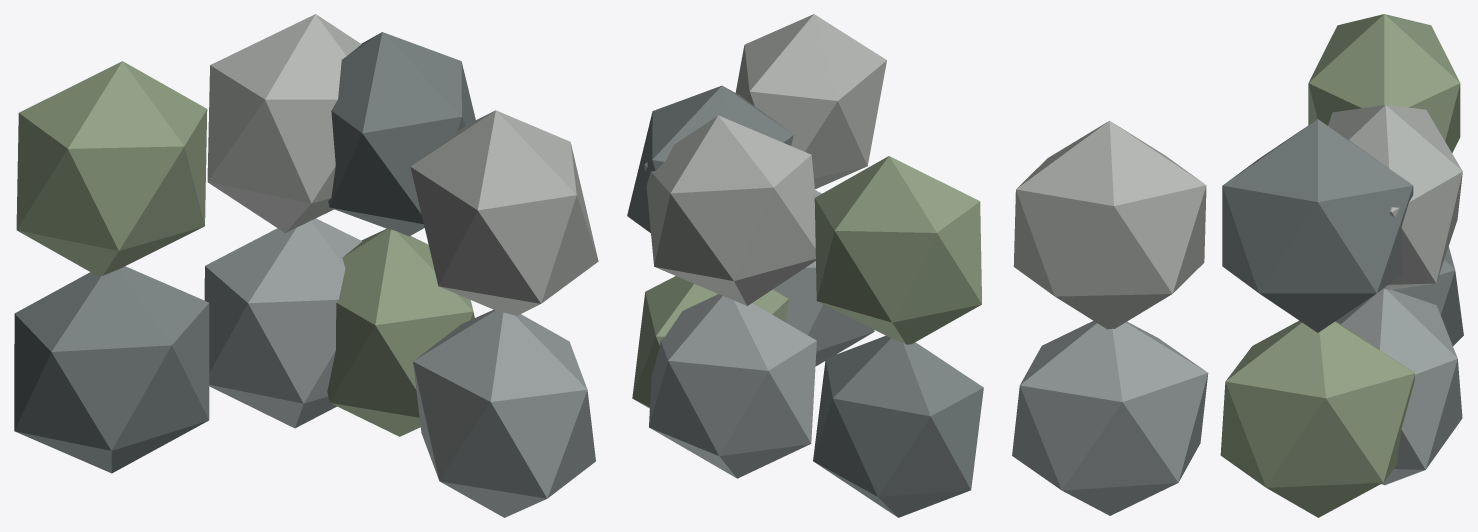
The model's file is cliff_corner_inner_2x2x2.glb.
The picture shows the model from 3 angles, left to right: view 1: azimuth 30°, elevation 25°; view 2: azimuth 150°, elevation 25°; view 3: azimuth 270°, elevation 25°; orthographic projection. The views are drawn at different scales.
Parts seen in each view (by area): view 1: cliff_corner_inner_01, cliff_corner_inner_05, cliff_corner_inner_02, cliff_corner_inner_06, cliff_corner_inner_07, cliff_corner_inner_03, cliff_corner_inner_08, cliff_corner_inner_04; view 2: cliff_corner_inner_05, cliff_corner_inner_07, cliff_corner_inner_03, cliff_corner_inner_01, cliff_corner_inner_06, cliff_corner_inner_08, cliff_corner_inner_04, cliff_corner_inner_02; view 3: cliff_corner_inner_06, cliff_corner_inner_02, cliff_corner_inner_08, cliff_corner_inner_04, cliff_corner_inner_05, cliff_corner_inner_07, cliff_corner_inner_03, cliff_corner_inner_01.
Part boxes in pixels (<box>): cliff_corner_inner_01: <box>14,266,209,473</box>; cliff_corner_inner_05: <box>16,61,207,275</box>; cliff_corner_inner_02: <box>413,309,595,517</box>; cliff_corner_inner_06: <box>410,110,598,315</box>; cliff_corner_inner_07: <box>207,14,361,232</box>; cliff_corner_inner_03: <box>204,218,362,428</box>; cliff_corner_inner_08: <box>328,32,475,236</box>; cliff_corner_inner_04: <box>327,229,474,436</box>; cliff_corner_inner_05: <box>814,156,981,344</box>; cliff_corner_inner_07: <box>644,115,815,305</box>; cliff_corner_inner_03: <box>649,294,816,478</box>; cliff_corner_inner_01: <box>813,335,983,517</box>; cliff_corner_inner_06: <box>735,14,886,189</box>; cliff_corner_inner_08: <box>627,85,793,232</box>; cliff_corner_inner_04: <box>632,276,788,408</box>; cliff_corner_inner_02: <box>773,190,874,366</box>; cliff_corner_inner_06: <box>1013,120,1206,329</box>; cliff_corner_inner_02: <box>1012,321,1208,515</box>; cliff_corner_inner_08: <box>1222,119,1413,332</box>; cliff_corner_inner_04: <box>1220,320,1414,517</box>; cliff_corner_inner_05: <box>1308,14,1460,152</box>; cliff_corner_inner_07: <box>1328,105,1462,289</box>; cliff_corner_inner_03: <box>1336,289,1462,485</box>; cliff_corner_inner_01: <box>1392,246,1463,345</box>.
Size of the model in its own units: 2.21 by 2.08 by 2.18.
